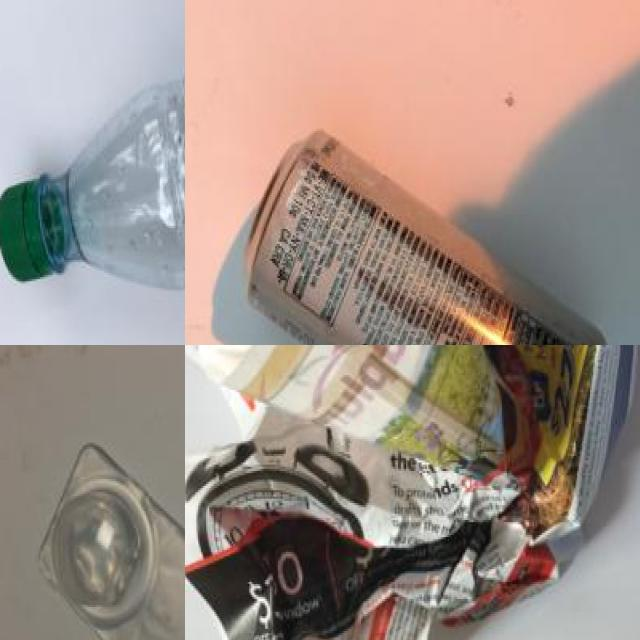paper: (199, 345, 640, 640)
plastic: (220, 107, 635, 345), (0, 2, 185, 281)
trash: (42, 440, 185, 640)
